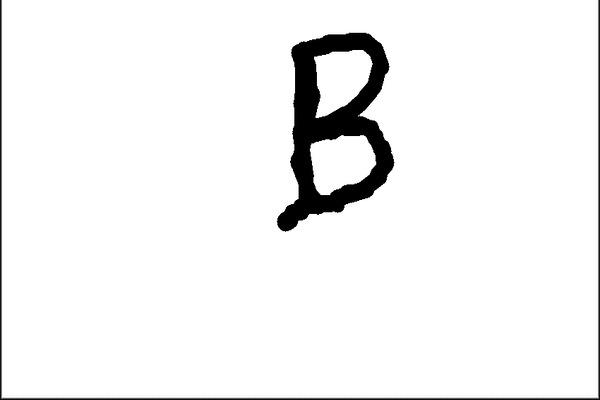B: (264, 25, 402, 239)
